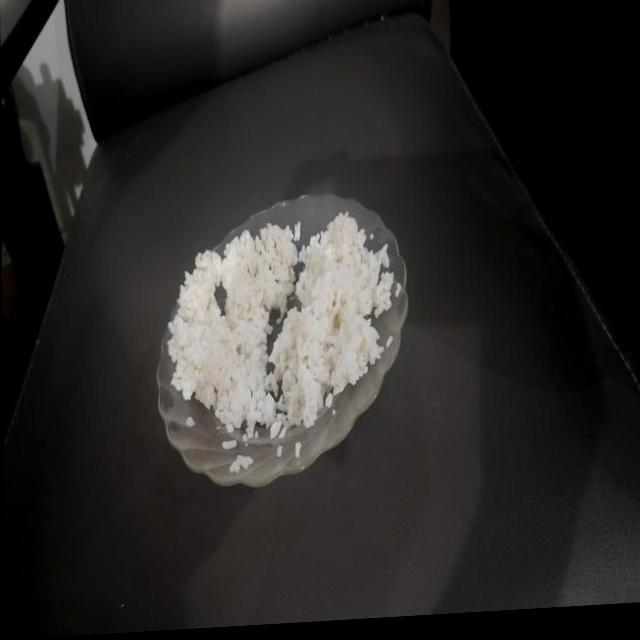nasi_putih: (266, 210, 402, 429), (168, 222, 300, 440)
